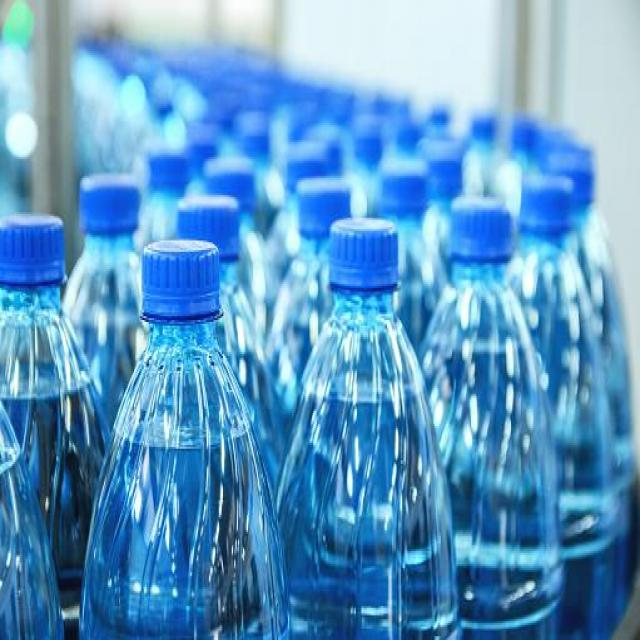plastic_bottle: (117, 253, 283, 631), (302, 236, 448, 640), (443, 211, 555, 616), (4, 227, 93, 636), (531, 176, 608, 640), (81, 170, 146, 509), (178, 207, 257, 402)
